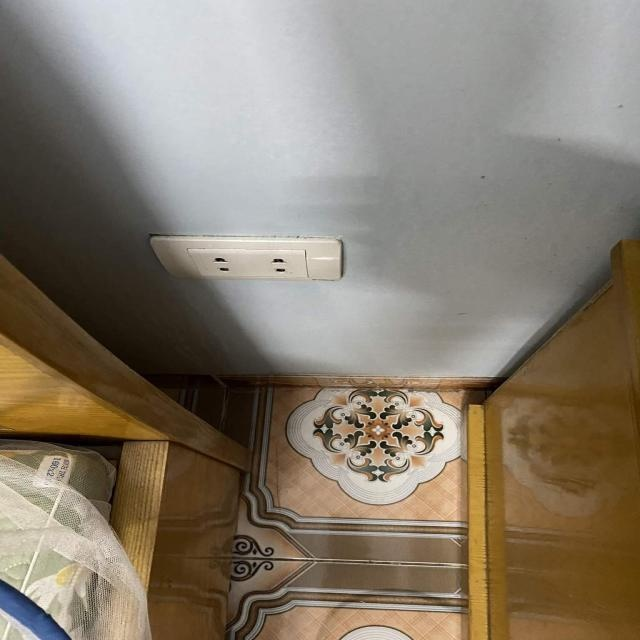outlet: (149, 234, 343, 281)
